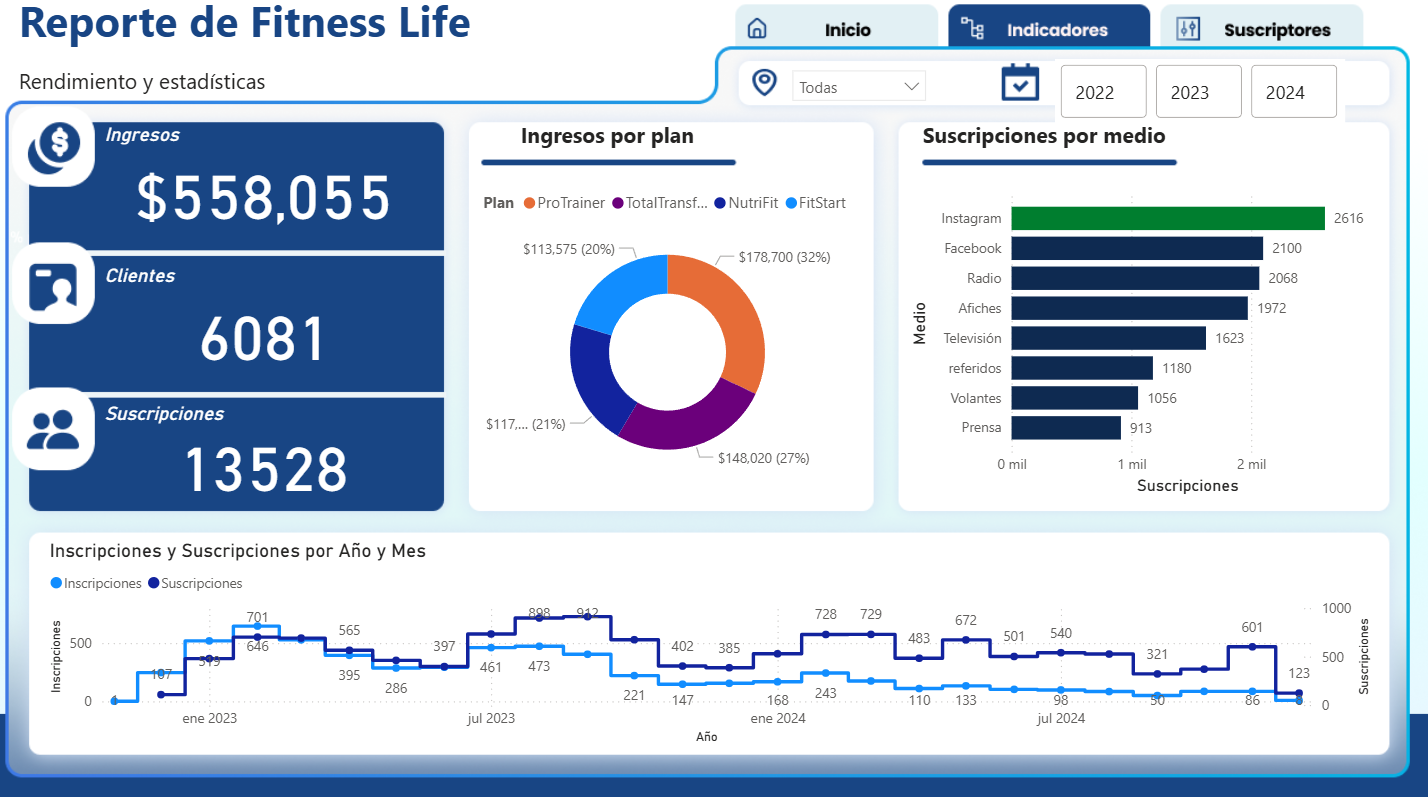

The page's visual inventory and layout, read from the dashboard file:
{"tool":"powerbi","page":{"name":"Indicadores","canvas":[1280,720],"ordinal":1},"visuals":[{"type":"textbox","box":[28.2,0,481.8,103.8],"z":0},{"type":"textbox","box":[470.7,113.9,169.3,37.3],"z":1000},{"type":"donutChart","fields":{"Category":["Planes.Plan"],"Y":["Medidas.Ingresos"]},"box":[435.4,171.3,339.7,275.1],"z":2000},{"type":"lineChart","fields":{"Category":["DimCalendario.Date.Variación.Jerarquía de fechas.Año","DimCalendario.Date.Variación.Jerarquía de fechas.Mes"],"Y":["Medidas.Inscripciones"],"Y2":["Medidas.Suscripciones"]},"box":[55.4,487.8,1175.2,185.4],"z":3000},{"type":"card","title":"Ingresos","fields":{"Values":["Medidas.Ingresos"]},"box":[104,121,291,99],"z":4000},{"type":"card","title":"Clientes","fields":{"Values":["Medidas.Clientes"]},"box":[104,245,291,99],"z":5000},{"type":"card","title":"Suscripciones","fields":{"Values":["Medidas.Suscripciones"]},"box":[104,367,291,86],"z":6000},{"type":"advancedSlicerVisual","fields":{"Values":["DimCalendario.Date.Variación.Jerarquía de fechas.Año"]},"box":[947,64,256,57],"z":7000},{"type":"shape","box":[1039,15,179,37],"z":8000},{"type":"shape","box":[665,15,179,37],"z":9000},{"type":"slicer","fields":{"Values":["Suscripciones.Ciudad"]},"box":[706,64,138,41],"z":10000},{"type":"clusteredBarChart","fields":{"Category":["Medio.Medio"],"Y":["Medidas.Suscripciones"]},"box":[815,171,423,282],"z":11000},{"type":"textbox","box":[826,114,235,37],"z":12000}]}

Visuals, with their boxes in screenshot pixels (x1, y1, x2, y2), scaled from the page's 1280x720 canvas onto the 1428x797 screenshot:
textbox: (left=31, top=0, right=569, bottom=115)
textbox: (left=525, top=126, right=714, bottom=167)
donutChart - Planes.Plan x Medidas.Ingresos: (left=486, top=190, right=865, bottom=494)
lineChart - DimCalendario.Date.Variación.Jerarquía de fechas.Año x DimCalendario.Date.Variación.Jerarquía de fechas.Mes: (left=62, top=540, right=1373, bottom=745)
"Ingresos" card: (left=116, top=134, right=441, bottom=244)
"Clientes" card: (left=116, top=271, right=441, bottom=381)
"Suscripciones" card: (left=116, top=406, right=441, bottom=501)
advancedSlicerVisual - DimCalendario.Date.Variación.Jerarquía de fechas.Año: (left=1056, top=71, right=1342, bottom=134)
shape: (left=1159, top=17, right=1359, bottom=58)
shape: (left=742, top=17, right=942, bottom=58)
slicer - Suscripciones.Ciudad: (left=788, top=71, right=942, bottom=116)
clusteredBarChart - Medio.Medio x Medidas.Suscripciones: (left=909, top=189, right=1381, bottom=501)
textbox: (left=922, top=126, right=1184, bottom=167)
